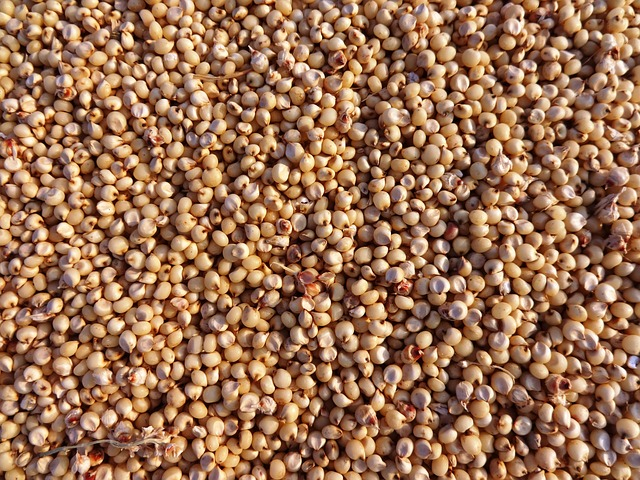seed: (1, 1, 640, 480)
